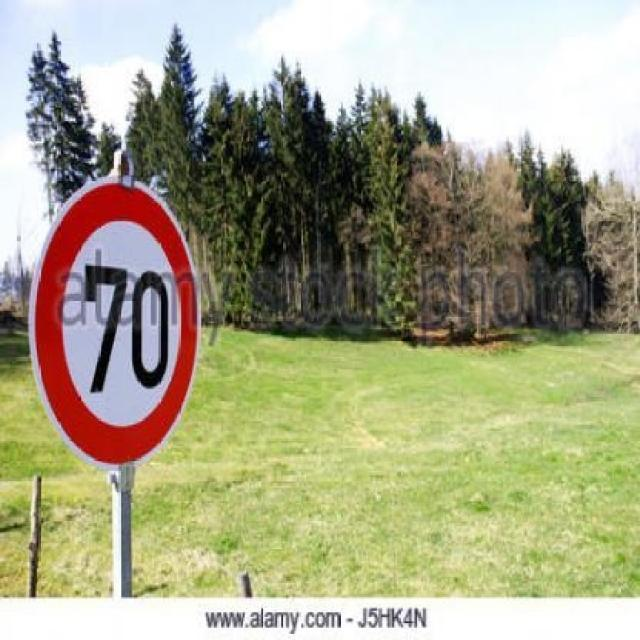forb_speed_over_70: (44, 179, 199, 470)
